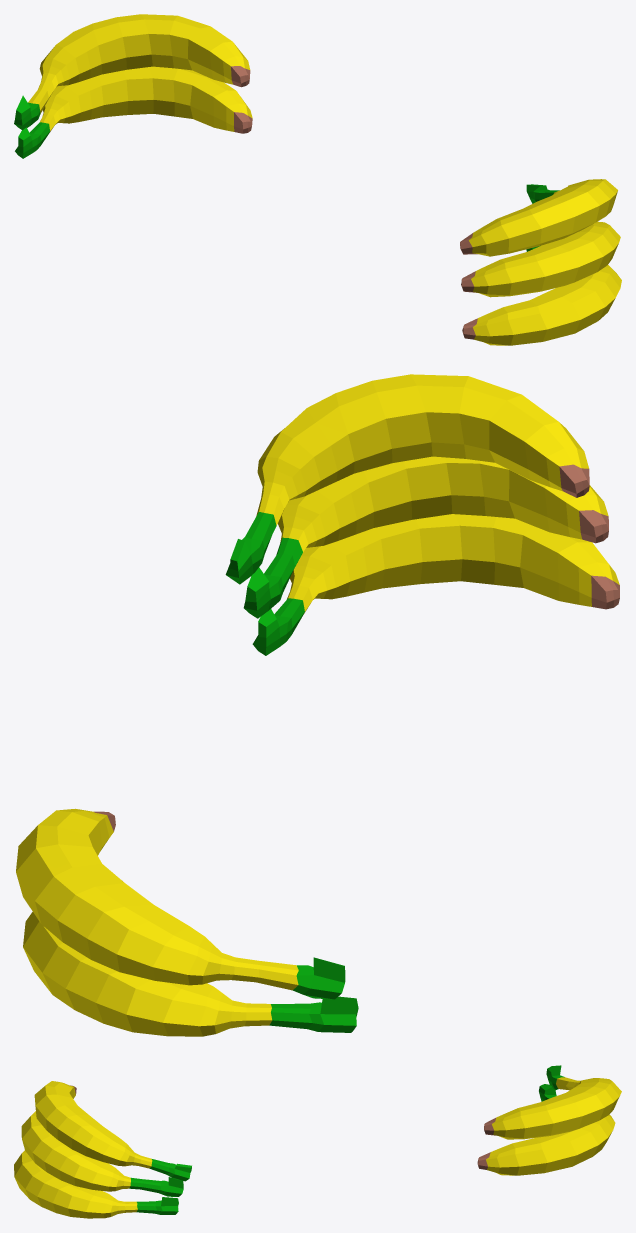
File: bananas1.glb
3 renders of one model, top to bottom at view 1: azimuth 30°, elevation 25°; view 2: azimuth 150°, elevation 25°; view 3: azimuth 270°, elevation 25°, orthographic. The views are drawn at different scales.
Visible parts, largest first — view 1: SM_fruit_banana01_yecan_brown_light_0; view 2: SM_fruit_banana01_yecan_brown_light_0; view 3: SM_fruit_banana01_yecan_brown_light_0.
Part boxes in pixels (<box>): SM_fruit_banana01_yecan_brown_light_0: <box>14,14,621,345</box>; SM_fruit_banana01_yecan_brown_light_0: <box>16,374,619,1036</box>; SM_fruit_banana01_yecan_brown_light_0: <box>14,1065,621,1218</box>.
Bounding box in the file's own units: 174 × 64.18 × 349.
Materials: 3 (3 with a texture image).
